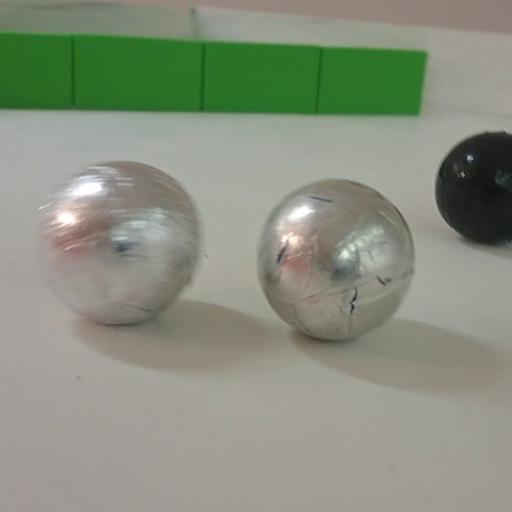alive: (38, 160, 202, 328), (256, 178, 416, 342)
dead: (433, 130, 510, 246)
